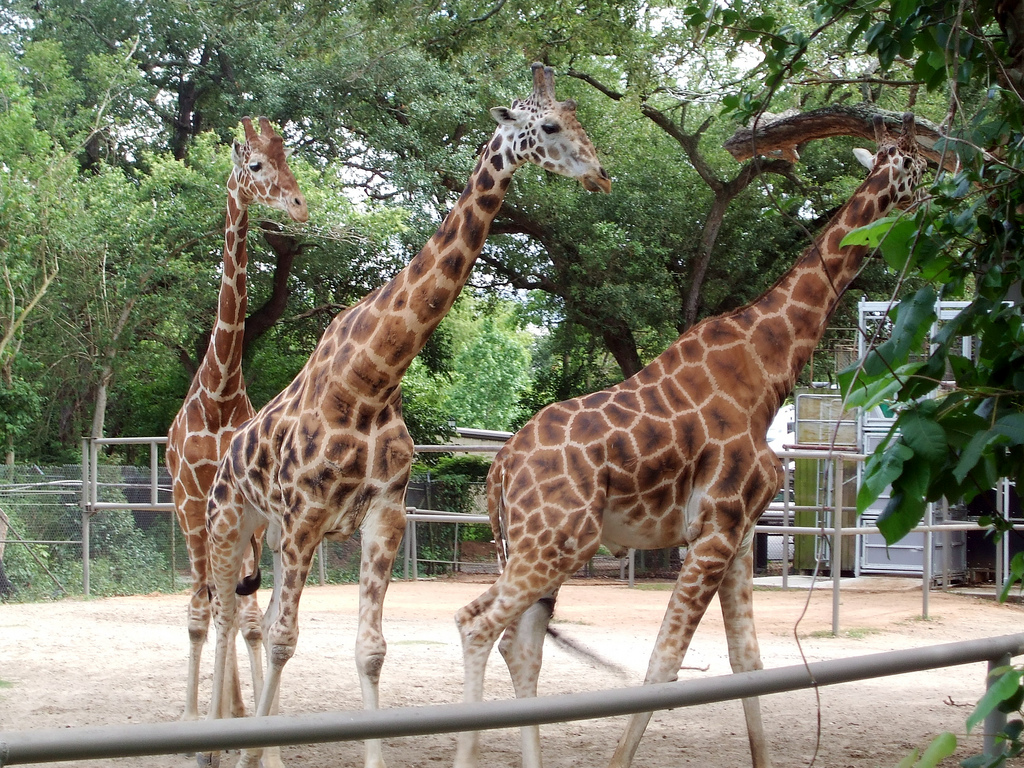giraffe: (499, 109, 964, 684), (213, 77, 607, 664), (114, 96, 311, 525)
